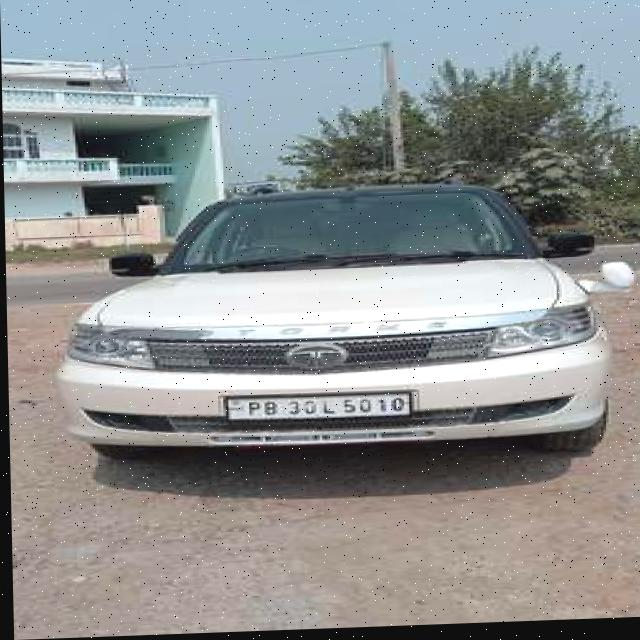plate: (215, 389, 418, 430)
